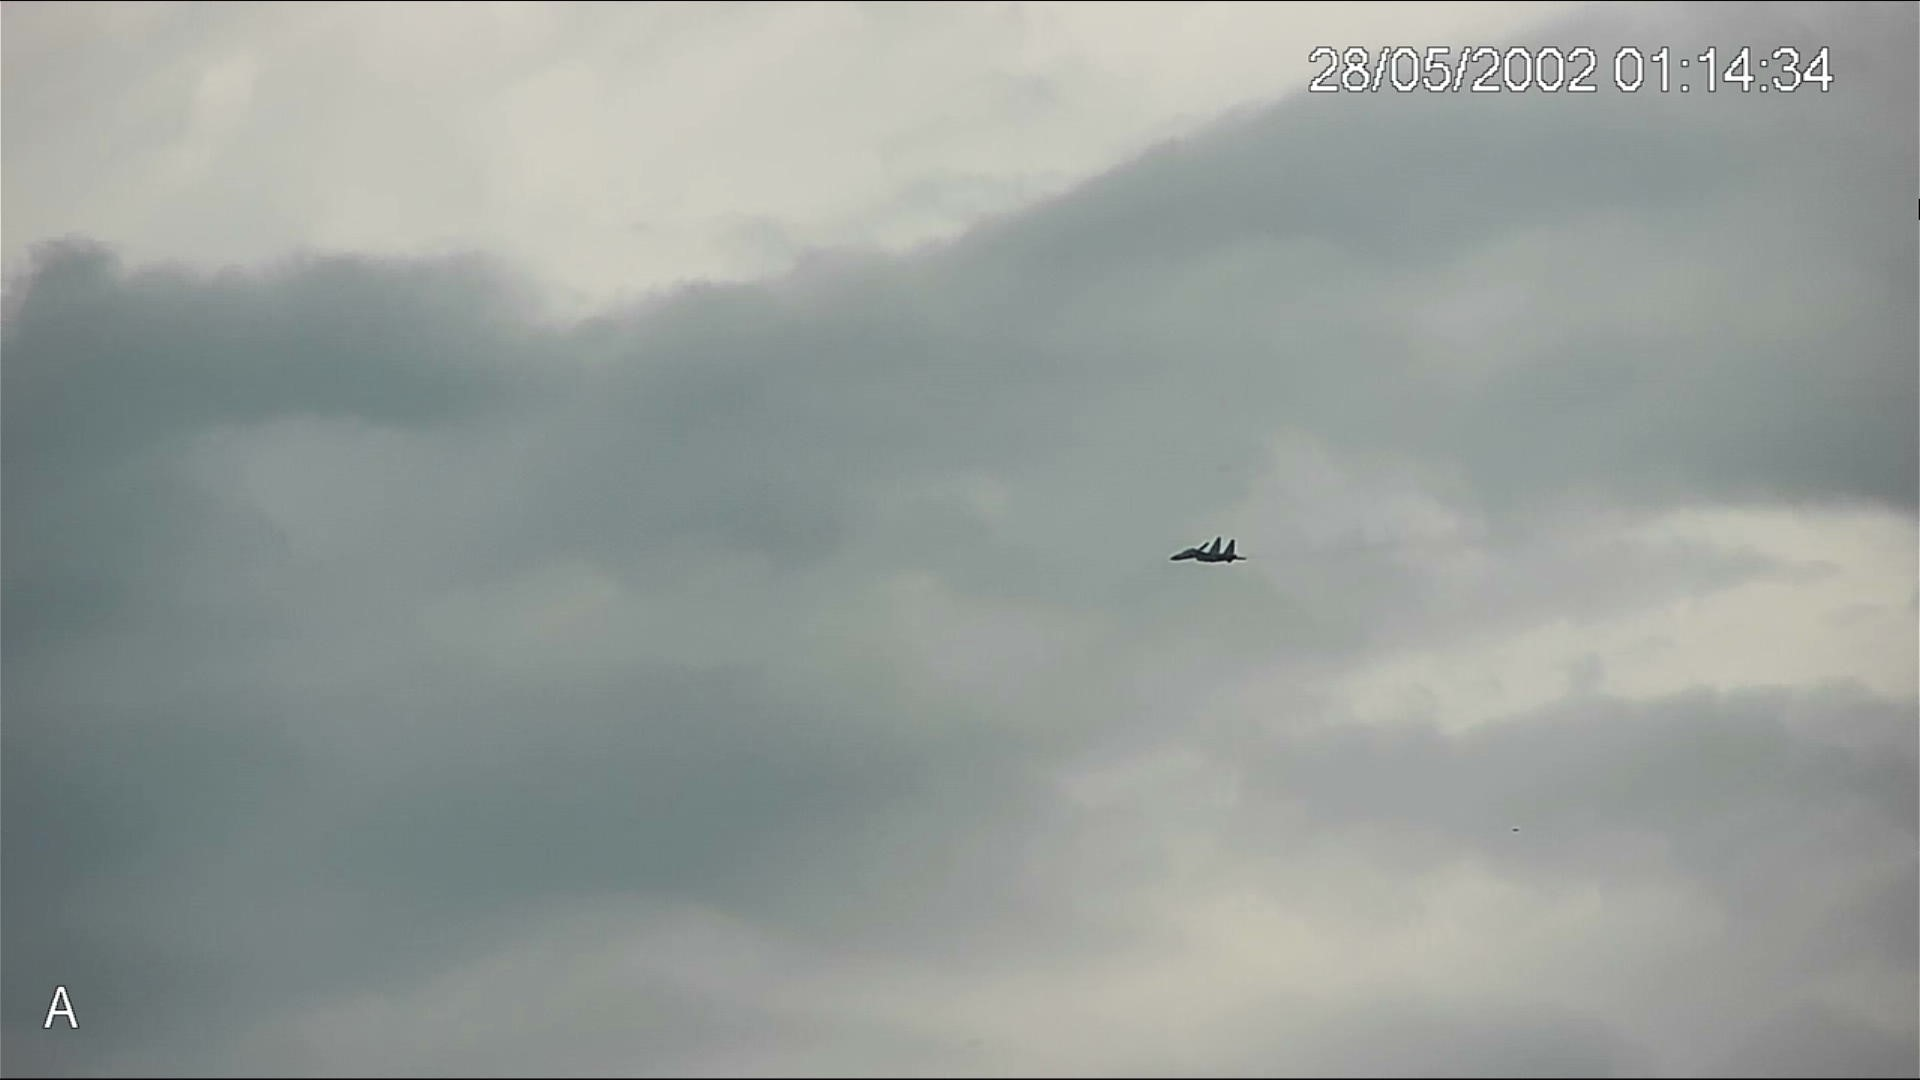SU_30: (1166, 535, 1247, 568)
